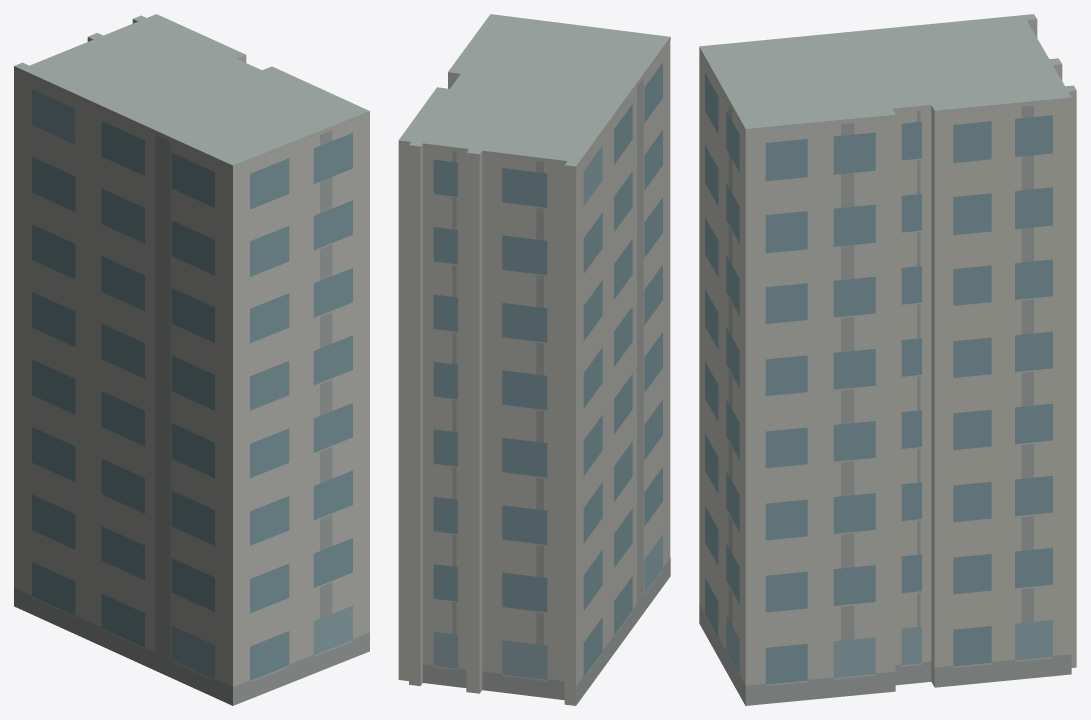
File: survey-upis-32800065.glb
3 renders of one model, left to right at view 1: azimuth 30°, elevation 25°; view 2: azimuth 150°, elevation 25°; view 3: azimuth 270°, elevation 25°, orthographic. The views are drawn at different scales.
Parts seen in each view (by area): view 1: survey-upis-32800065.tmp; view 2: survey-upis-32800065.tmp; view 3: survey-upis-32800065.tmp.
Boxes of the visible parts, bbox=[...] form: survey-upis-32800065.tmp: bbox=[14, 14, 369, 705]; survey-upis-32800065.tmp: bbox=[398, 14, 670, 705]; survey-upis-32800065.tmp: bbox=[699, 14, 1076, 705].
Bounding box in the file's own units: 13.13 × 30.7 × 18.21.
